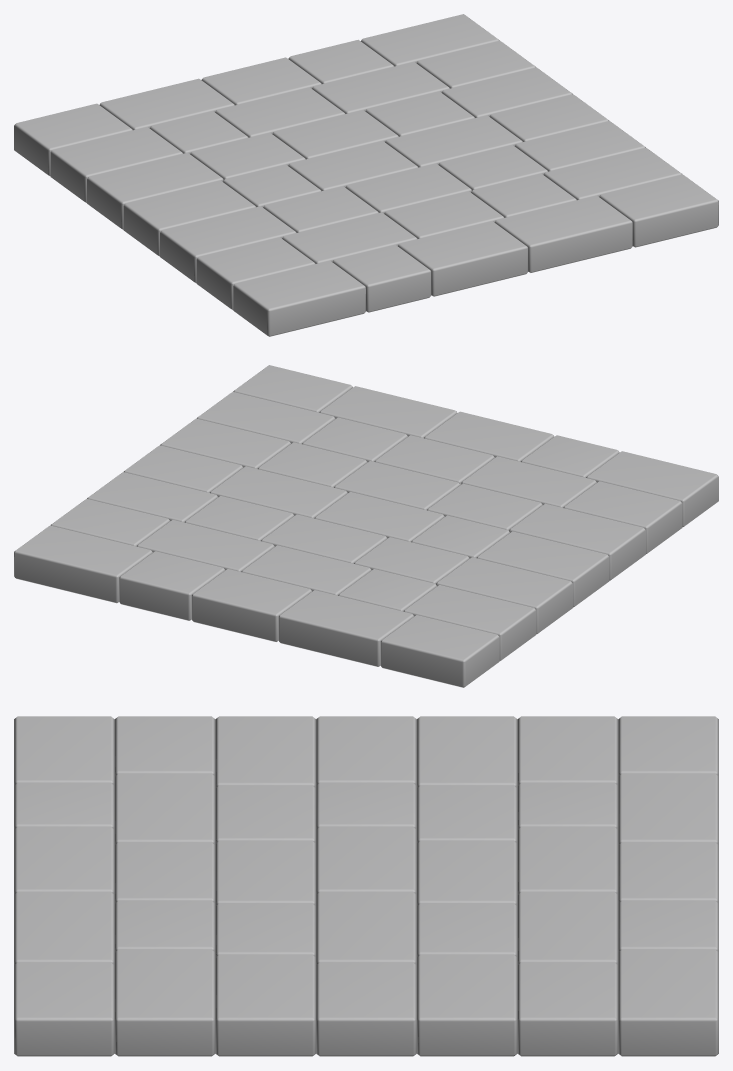
File: City_5_Base_1.glb
The picture shows the model from 3 angles, top to bottom: view 1: azimuth 30°, elevation 25°; view 2: azimuth 150°, elevation 25°; view 3: azimuth 270°, elevation 25°; orthographic projection. The views are drawn at different scales.
Parts seen in each view (by area): view 1: City_5_Base_1; view 2: City_5_Base_1; view 3: City_5_Base_1.
Part boxes in pixels (x1,y1,x2,y2): City_5_Base_1: (14, 14, 718, 336); City_5_Base_1: (14, 365, 718, 687); City_5_Base_1: (14, 716, 718, 1056).
Size of the model in its own units: 10.4 by 0.6294 by 10.19.
1 material, 1 textured.
